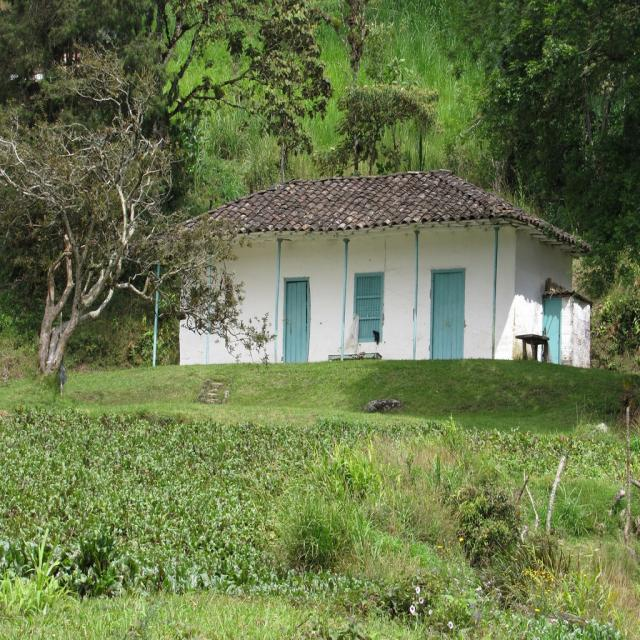Fachada: (180, 171, 589, 366)
